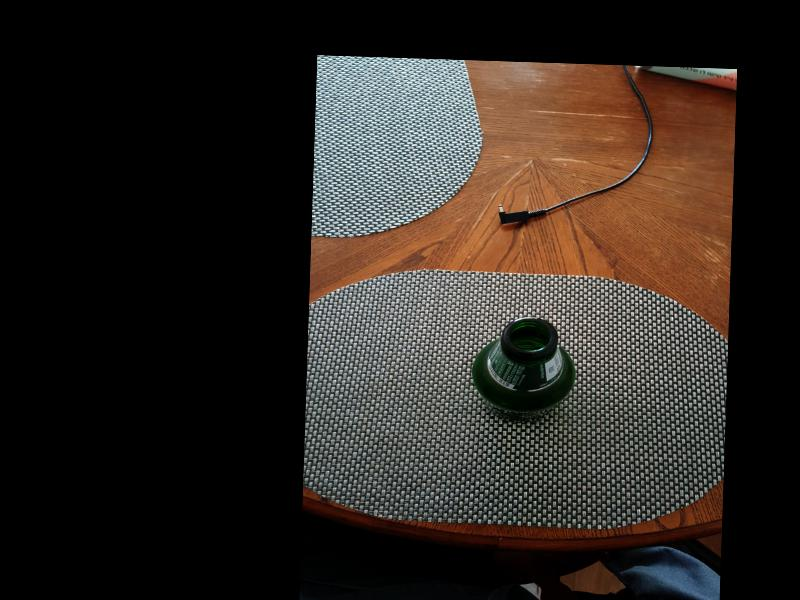Beer: (475, 317, 570, 423)
